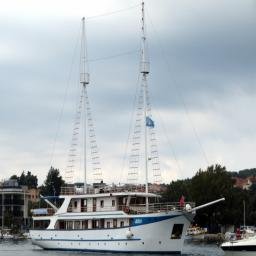cruises: (28, 1, 227, 256)
